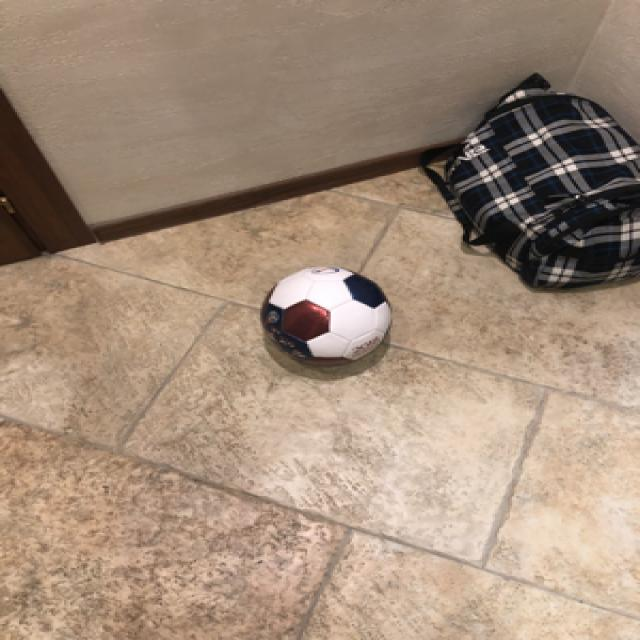soccer_ball: (254, 262, 395, 368)
